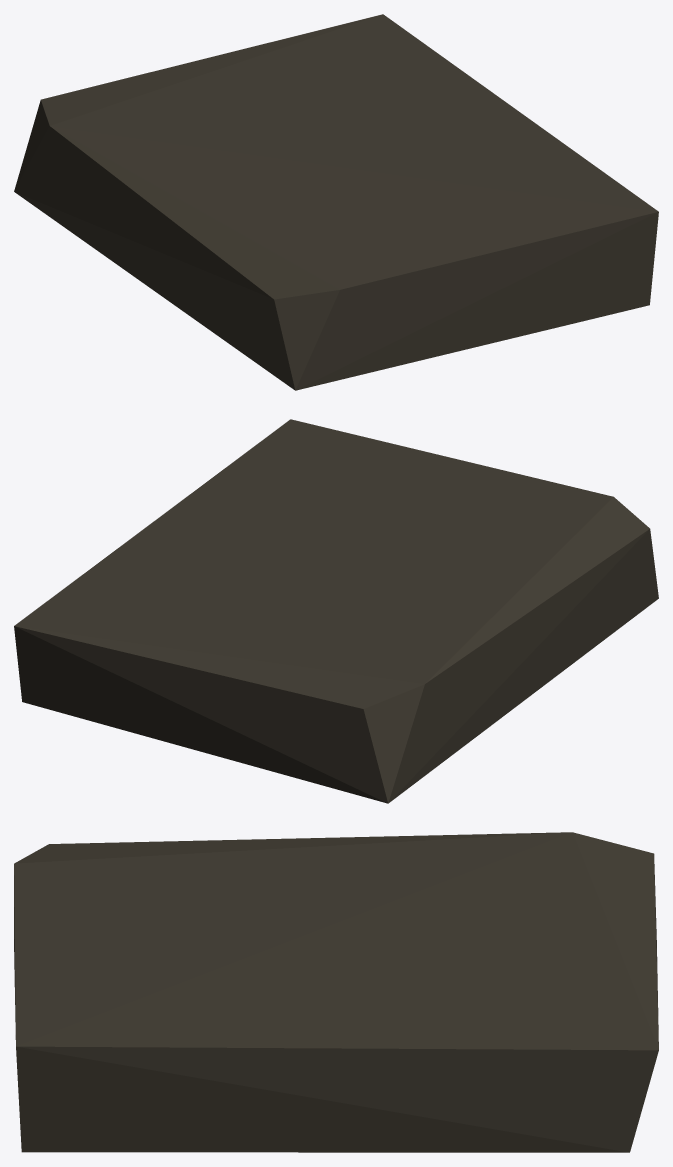
File: Stairs_Single_2_LOD_1.fbx
The picture shows the model from 3 angles, top to bottom: view 1: azimuth 30°, elevation 25°; view 2: azimuth 150°, elevation 25°; view 3: azimuth 270°, elevation 25°; orthographic projection. The views are drawn at different scales.
Parts seen in each view (by area): view 1: Group11249; view 2: Group11249; view 3: Group11249.
Part boxes in pixels (box(x1,y1,x2,y2)): Group11249: box(14, 14, 658, 390); Group11249: box(14, 419, 658, 803); Group11249: box(14, 832, 658, 1152).
Size of the model in its own units: 1.78 by 0.4341 by 2.27.
